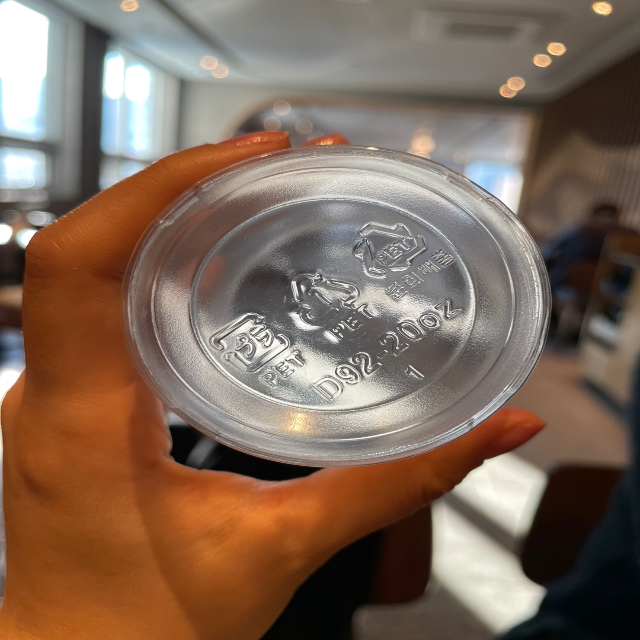pet: (352, 216, 455, 304), (204, 306, 309, 389), (286, 268, 376, 344)
